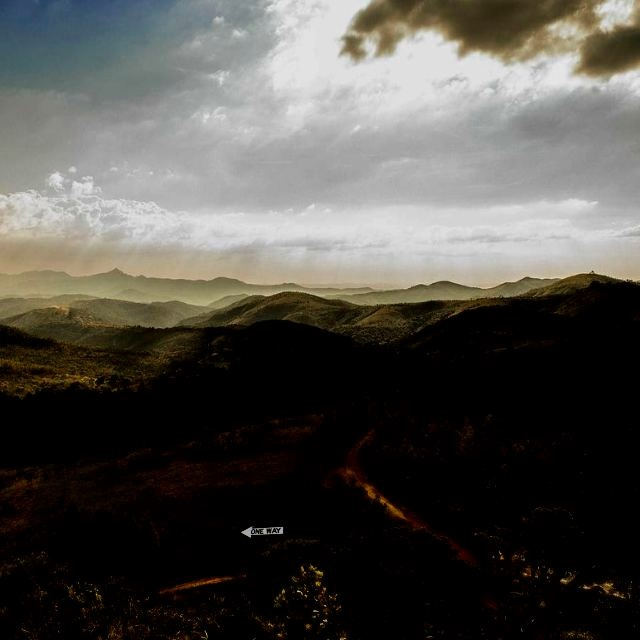ONE_WAY_ left: (236, 523, 287, 539)
